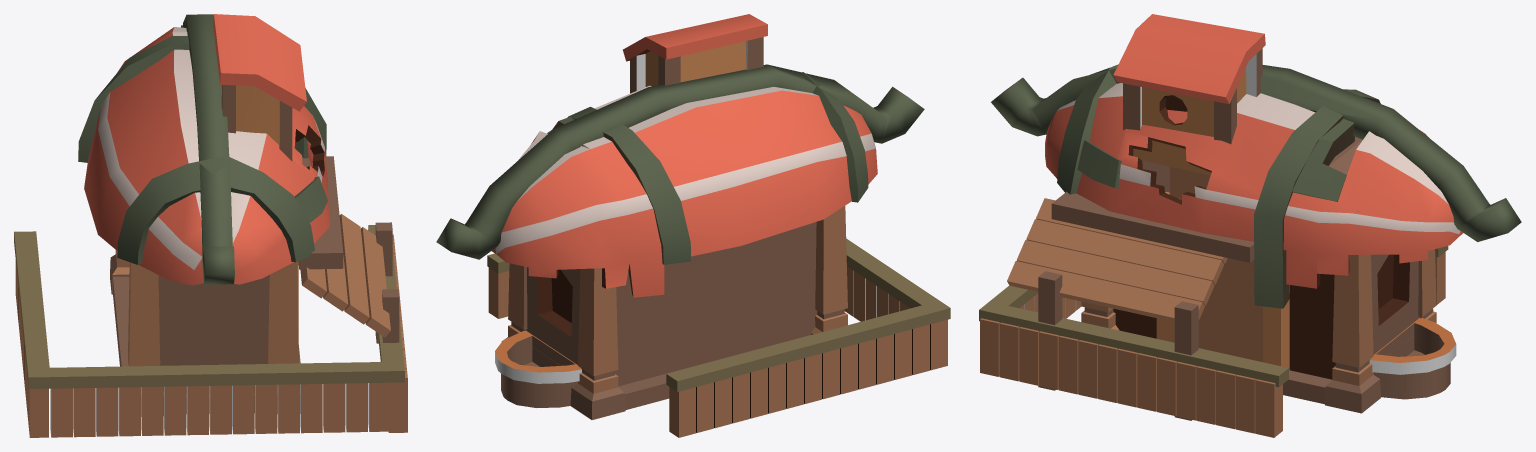
File: ini utk unitiy.fbx
3 views of the same model, side by side, from view 1: azimuth 30°, elevation 25°; view 2: azimuth 150°, elevation 25°; view 3: azimuth 270°, elevation 25° (orthographic). The views are drawn at different scales.
Visible parts, largest first — view 1: Sphere, Cube.108, Cube.110, Sphere.005, Cube.113, Cube.114, Cube.112, Sphere.003, Plane, Cube.103, Sphere.002, Cube.107 (+5 smaller); view 2: Sphere, Cube.113, Cube.114, Cube.107, Cube.112, Cube.110, Sphere.005, Cylinder.018, Sphere.003, Sphere.002, Cube.108, Cube.102 (+2 smaller); view 3: Sphere, Cube.109, Plane, Cube.114, Sphere.005, Cube.113, Sphere.003, Cube.112, Cube.110, Cube.045, Cylinder.018, Cube.103 (+6 smaller).
Part boxes in pixels (<box>): Sphere: <box>84,27,329,285</box>; Cube.108: <box>50,382,388,437</box>; Cube.110: <box>14,225,404,388</box>; Sphere.005: <box>78,36,326,264</box>; Cube.113: <box>158,275,269,393</box>; Cube.114: <box>181,14,234,284</box>; Cube.112: <box>110,250,300,416</box>; Sphere.003: <box>213,14,306,111</box>; Plane: <box>300,214,390,337</box>; Cube.103: <box>298,156,343,269</box>; Sphere.002: <box>221,85,278,144</box>; Cube.107: <box>15,260,48,437</box>; Sphere: <box>492,85,877,297</box>; Cube.113: <box>526,222,817,386</box>; Cube.114: <box>436,64,924,259</box>; Cube.107: <box>669,319,947,437</box>; Cube.112: <box>501,206,847,419</box>; Cube.110: <box>487,238,950,391</box>; Sphere.005: <box>547,72,868,264</box>; Cylinder.018: <box>495,331,581,407</box>; Sphere.003: <box>623,14,767,61</box>; Sphere.002: <box>645,41,746,86</box>; Cube.108: <box>844,266,909,321</box>; Cube.102: <box>630,37,763,93</box>; Sphere: <box>1045,83,1463,288</box>; Cube.109: <box>980,318,1282,437</box>; Plane: <box>1007,198,1227,321</box>; Cube.114: <box>991,65,1521,241</box>; Sphere.005: <box>1057,64,1380,308</box>; Cube.113: <box>1113,136,1419,379</box>; Sphere.003: <box>1113,14,1265,104</box>; Cube.112: <box>1081,211,1436,413</box>; Cube.110: <box>979,246,1448,387</box>; Cube.045: <box>1169,166,1262,361</box>; Cylinder.018: <box>1369,318,1456,399</box>; Cube.103: <box>1051,191,1254,262</box>.
Bounding box in the file's own units: 585 × 428 × 657.
